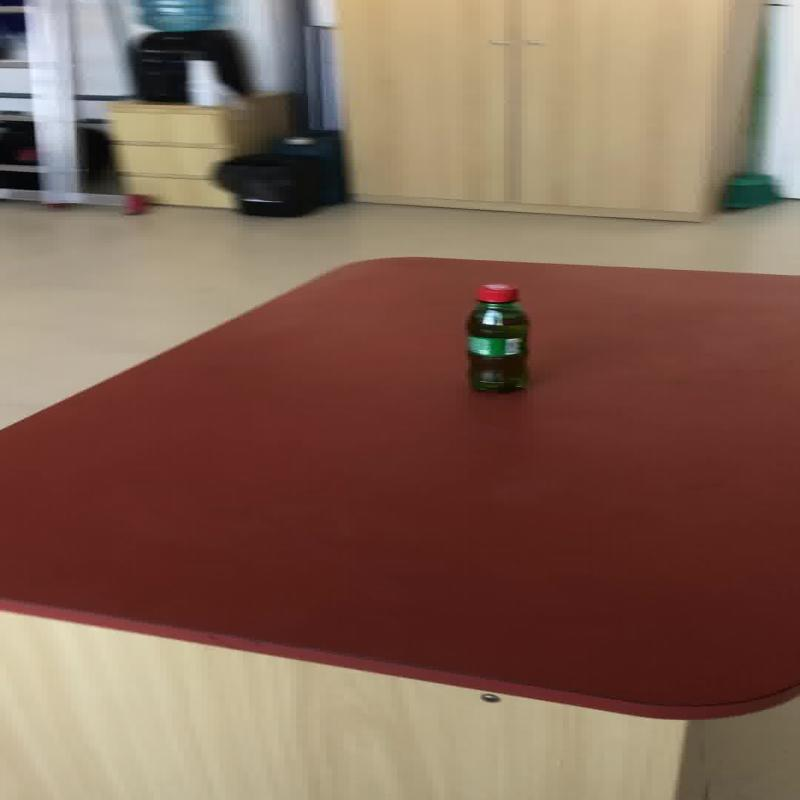guarana: (464, 282, 530, 393)
